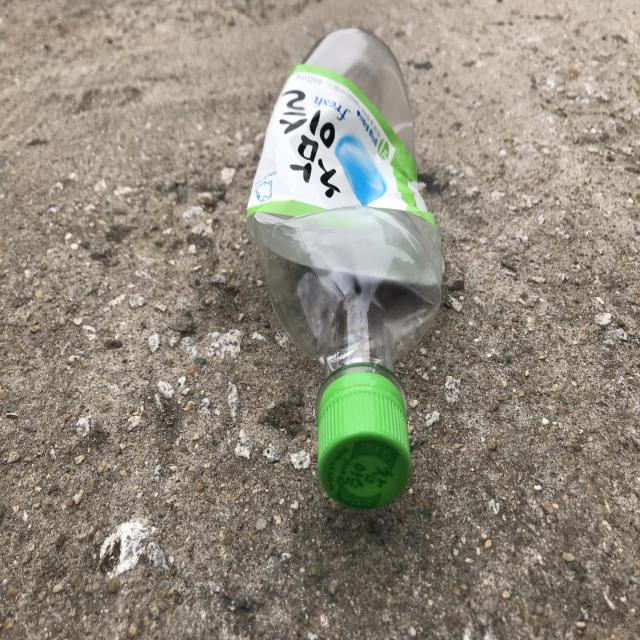plastic: (247, 28, 444, 510)
